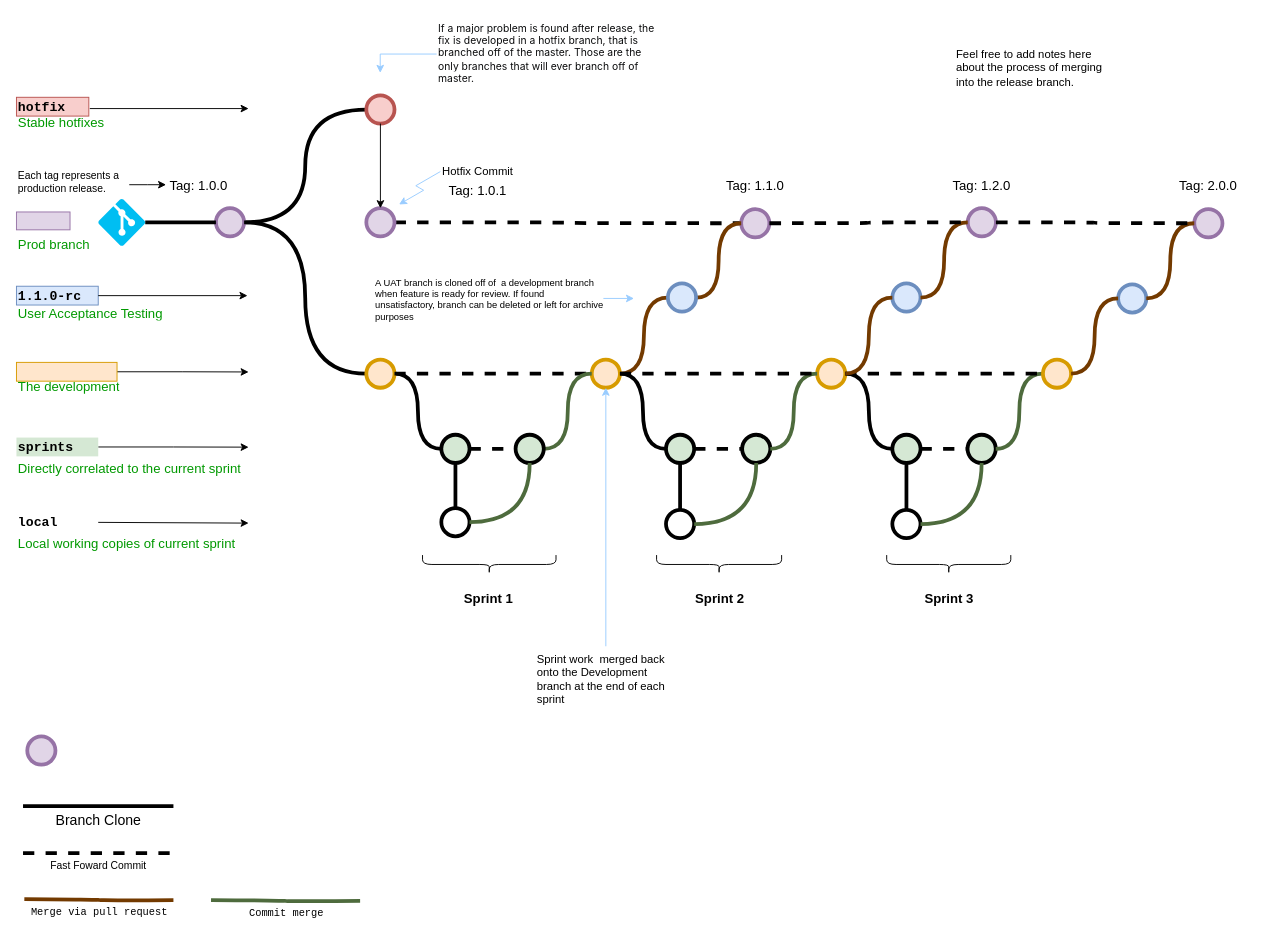
Some shapes in this 1277 by 935 pixel diagram are drawn without their labels. Each missing label, with the centre of its shape:
commit: (x=41, y=750)
development: (x=66, y=371)
stable: (x=43, y=220)
